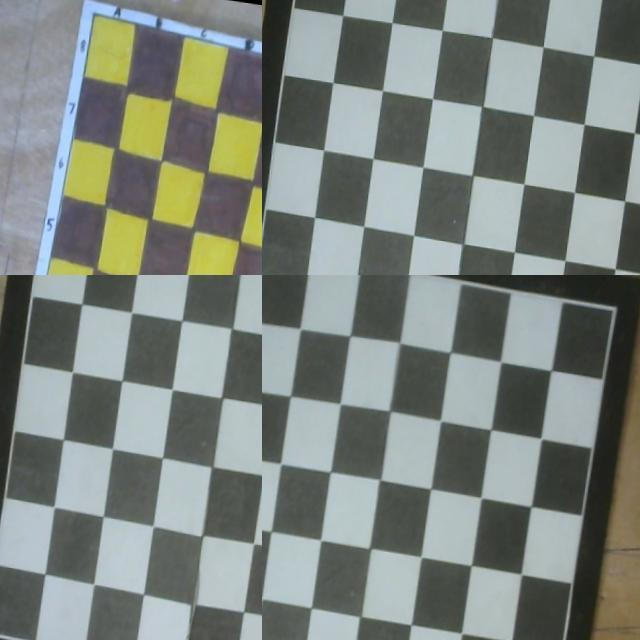chess-table-corners: (612, 293, 619, 301), (56, 275, 63, 279), (0, 627, 3, 636), (92, 7, 95, 14), (308, 0, 313, 3)
